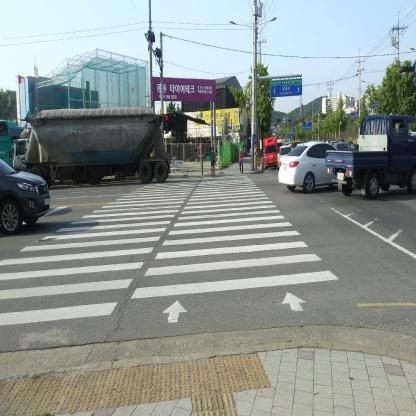Red: (164, 114, 169, 128)
